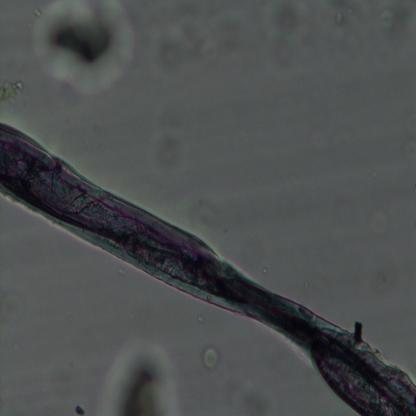Background material: (32, 3, 143, 103), (103, 337, 182, 416), (152, 10, 249, 72), (262, 2, 315, 79), (146, 128, 188, 180), (231, 375, 279, 416), (374, 1, 412, 49), (331, 6, 364, 31), (3, 77, 26, 106), (202, 341, 223, 368), (69, 398, 90, 416)
Cotton: (0, 119, 416, 416)
